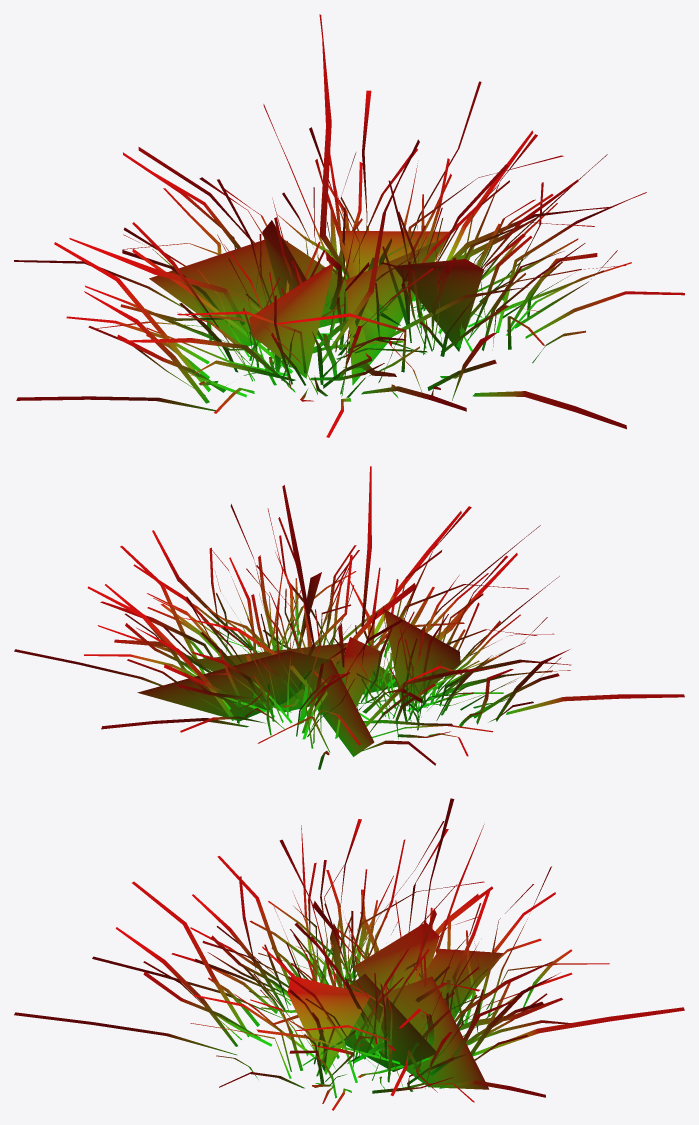
The model's file is Tundra Grass_LOD3_Var24_wk2oaeyqx.fbx.
3 renders of one model, top to bottom at view 1: azimuth 30°, elevation 25°; view 2: azimuth 150°, elevation 25°; view 3: azimuth 270°, elevation 25°, orthographic. The views are drawn at different scales.
Visible parts, largest first — view 1: _x7y9_Var24_LOD3; view 2: _x7y9_Var24_LOD3; view 3: _x7y9_Var24_LOD3.
Boxes of the visible parts, <box> form: _x7y9_Var24_LOD3: <box>14,14,684,437</box>; _x7y9_Var24_LOD3: <box>14,466,684,769</box>; _x7y9_Var24_LOD3: <box>14,798,684,1110</box>.
Bounding box in the file's own units: 56.23 × 25.22 × 58.66.
